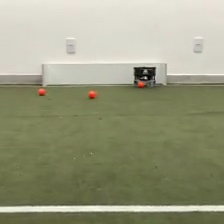ball: (86, 89, 96, 99), (37, 86, 46, 96), (136, 80, 144, 88)
goal: (39, 61, 169, 88)
robot: (131, 65, 158, 88)
